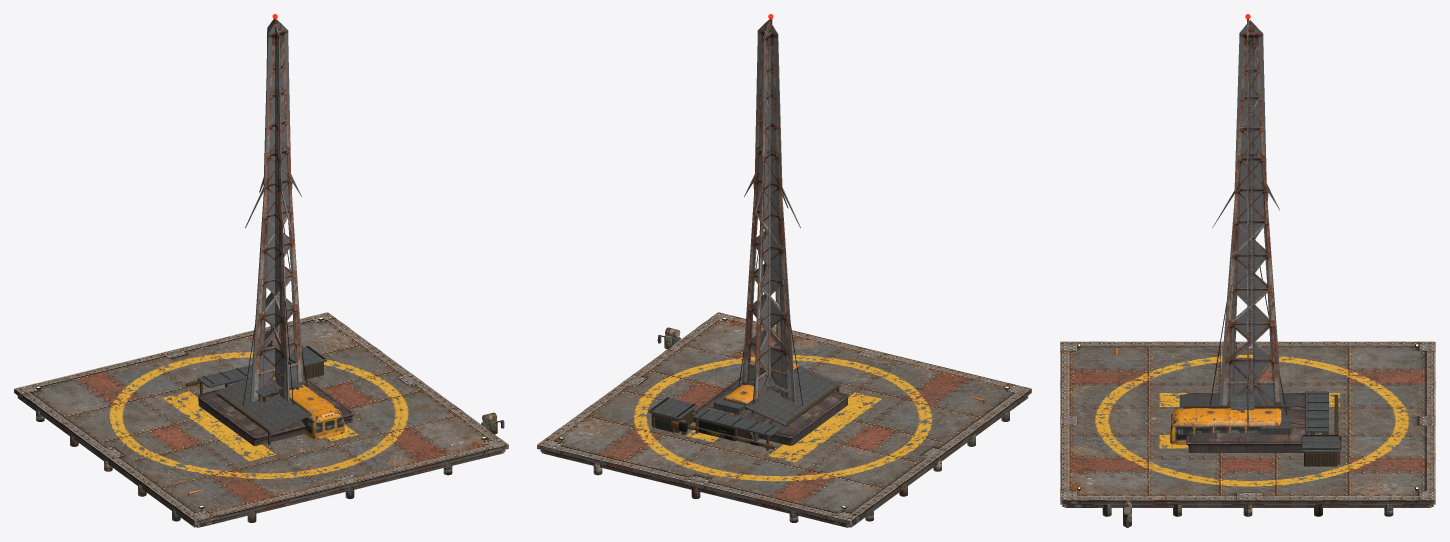
Rendered from services-2.glb.
3 views of the same model, side by side, from view 1: azimuth 30°, elevation 25°; view 2: azimuth 150°, elevation 25°; view 3: azimuth 270°, elevation 25° (orthographic). The views are drawn at different scales.
Visible parts, largest first — view 1: helipad:body-deck, radio-mast:lattice-front, radio-mast:lattice-side, school:lean-to-tin-roof, school:body, helipad:body-girder-east, toll-bank:body, toll-bank:roof-panel-left, toll-bank:porch-canopy; view 2: helipad:body-deck, radio-mast:lattice-front, radio-mast:lattice-side, school:lean-to-tin-roof, helipad:body-girder-west, toll-bank:porch-canopy, toll-bank:roof-panel-left, toll-bank:body, toll-bank:booth-roof; view 3: helipad:body-deck, radio-mast:lattice-side, school:body, helipad:body-girder-yard, toll-bank:roof-panel-right, toll-bank:body, toll-bank:porch-canopy, radio-mast:lattice-front, school:lean-to-tin-roof, toll-bank:roof-panel-front, toll-bank:booth-roof, toll-bank:booth-body.
Boxes of the visible parts, x1,y1,x2,y2 form: helipad:body-deck: (14,312,508,525); radio-mast:lattice-front: (245,19,303,402); radio-mast:lattice-side: (259,19,292,401); school:lean-to-tin-roof: (215,375,312,433); school:body: (273,377,344,439); helipad:body-girder-east: (196,450,504,527); toll-bank:body: (198,397,353,445); toll-bank:roof-panel-left: (195,395,259,437); toll-bank:porch-canopy: (197,364,252,387); helipad:body-deck: (537,312,1031,525); radio-mast:lattice-front: (742,19,800,402); radio-mast:lattice-side: (753,20,788,413); school:lean-to-tin-roof: (744,366,840,426); helipad:body-girder-west: (541,450,849,527); toll-bank:porch-canopy: (693,408,781,436); toll-bank:roof-panel-left: (786,395,850,437); toll-bank:body: (693,397,848,445); toll-bank:booth-roof: (648,397,697,420); helipad:body-deck: (1060,341,1435,504); radio-mast:lattice-side: (1212,20,1282,415); school:body: (1170,408,1281,444); helipad:body-girder-yard: (1064,504,1431,507); toll-bank:roof-panel-right: (1187,433,1301,443); toll-bank:body: (1186,408,1301,452); toll-bank:porch-canopy: (1305,391,1328,432); radio-mast:lattice-front: (1247,21,1248,419); school:lean-to-tin-roof: (1179,394,1294,407); toll-bank:roof-panel-front: (1255,394,1308,439); toll-bank:booth-roof: (1301,435,1339,452); toll-bank:booth-body: (1304,453,1337,466).
Bounding box in the file's own units: 26.1 × 30.38 × 24.01.
32 materials, 26 textured.
